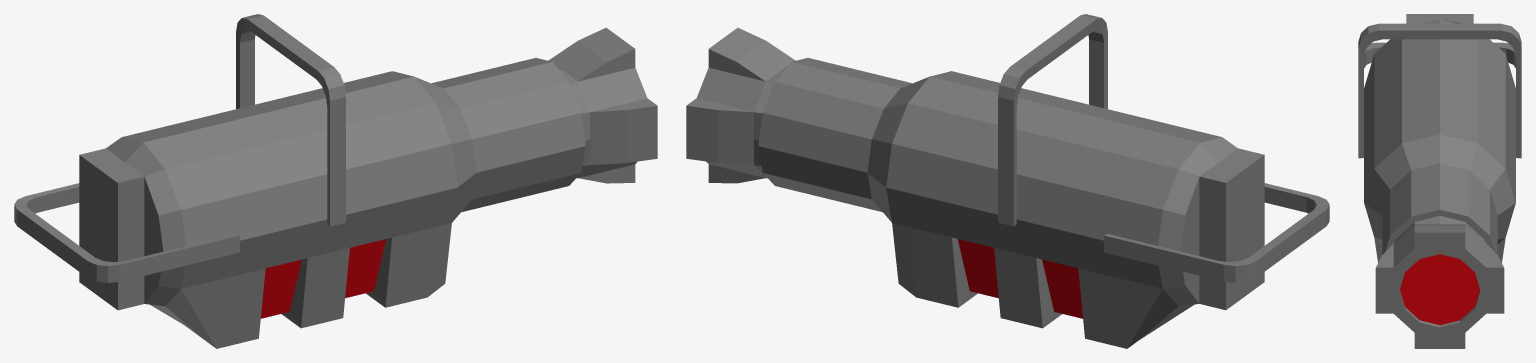
The model's file is LaserCannon.fbx.
3 views of the same model, side by side, from view 1: azimuth 30°, elevation 25°; view 2: azimuth 150°, elevation 25°; view 3: azimuth 270°, elevation 25° (orthographic). The views are drawn at different scales.
Visible parts, largest first — view 1: Laser; view 2: Laser; view 3: Laser.
Part boxes in pixels (x1,y1,x2,y2): Laser: (14, 14, 657, 348); Laser: (686, 14, 1329, 348); Laser: (1358, 14, 1521, 348).
Bounding box in the file's own units: 42.29 × 18.16 × 12.12.
